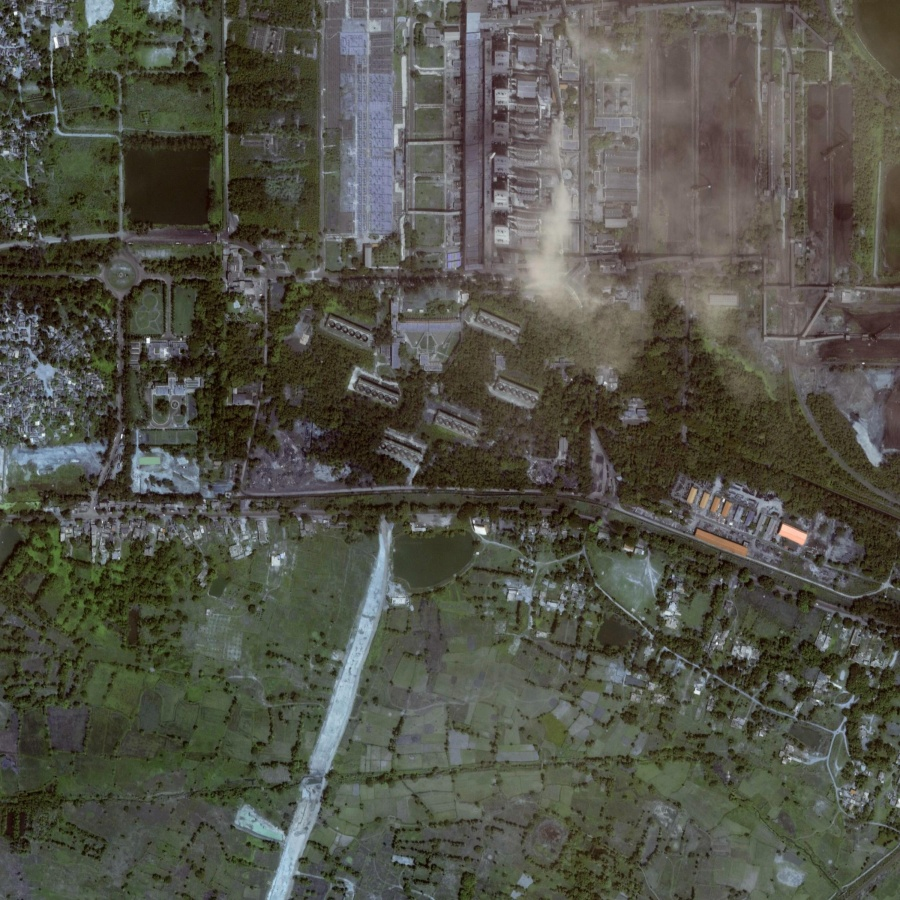PowerPlant: (535, 3, 866, 324)
